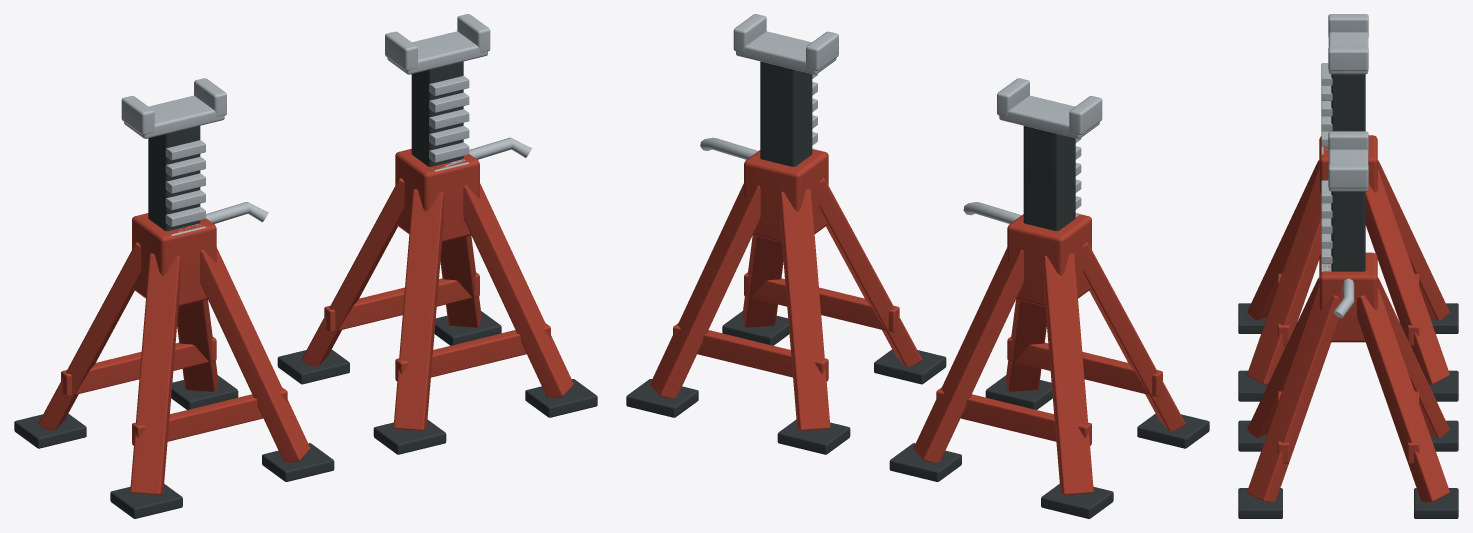
File: garage-axle-stands.glb
The picture shows the model from 3 angles, left to right: view 1: azimuth 30°, elevation 25°; view 2: azimuth 150°, elevation 25°; view 3: azimuth 270°, elevation 25°; orthographic projection. The views are drawn at different scales.
Visible parts, largest first — view 1: catalog_surface_RealismUV; view 2: catalog_surface_RealismUV; view 3: catalog_surface_RealismUV.
Boxes of the visible parts, box(x1,y1,x2,y2) form: catalog_surface_RealismUV: box(14, 14, 597, 518); catalog_surface_RealismUV: box(626, 14, 1209, 518); catalog_surface_RealismUV: box(1238, 14, 1458, 518).
Bounding box in the file's own units: 0.6 × 0.44 × 0.27.
